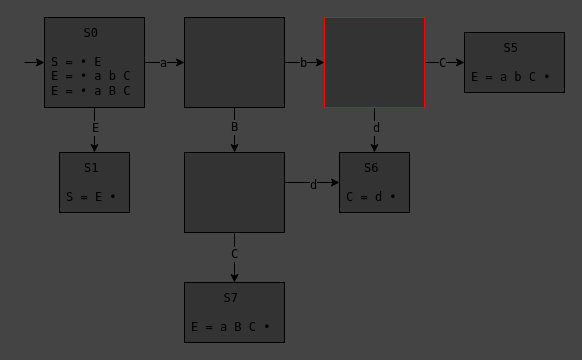
The diagram is 582 pixels wide and 360 high, and some of its shapes have lost their labels. The shapes that lost their labels are listed below. From the top down, each one's centre as x and y in pixels, then its label:
At point (234, 62): "S2 E = a • b C E = a • B C B = • b".
At point (374, 62): "S3 E = a b • C B = b •, d C = • d".
At point (234, 192): "S4 E = a B • C C = • d".
